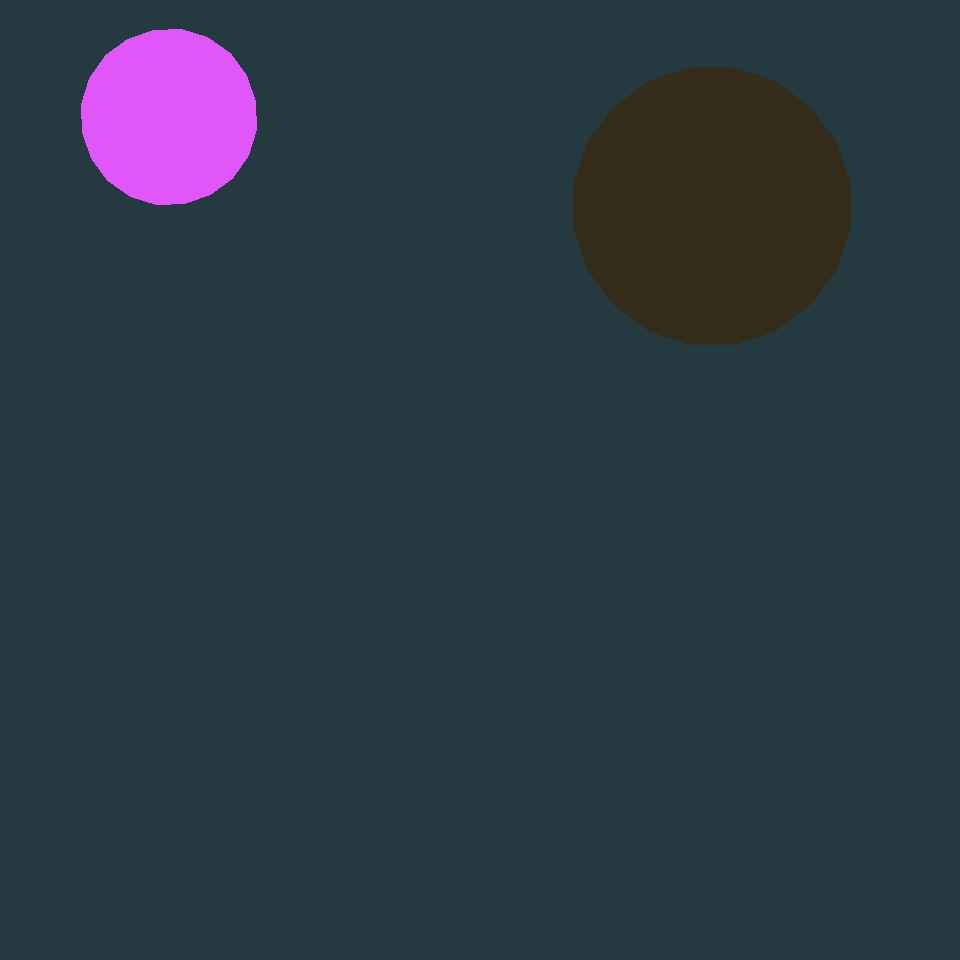circle: (579, 71, 692, 182)
square: (656, 431, 780, 556)
triangle: (276, 241, 654, 619), (18, 354, 316, 652), (574, 68, 850, 344), (638, 352, 882, 596), (619, 393, 852, 625), (82, 30, 256, 204)
